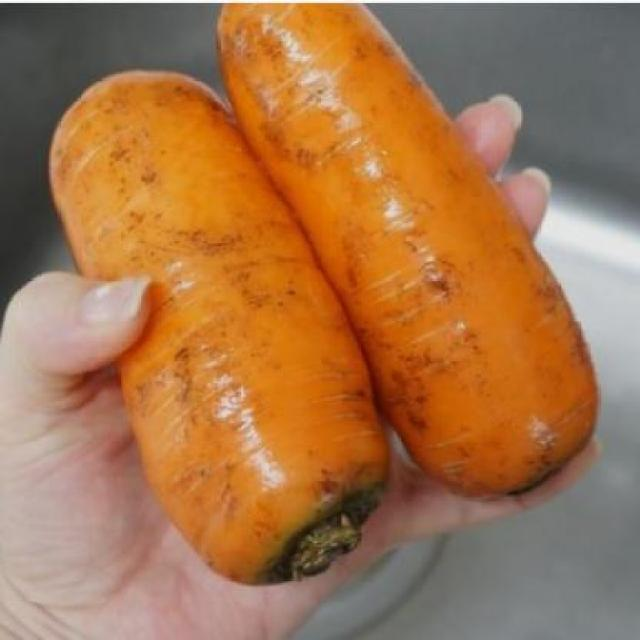carrot: (206, 4, 602, 496), (44, 53, 396, 596)
